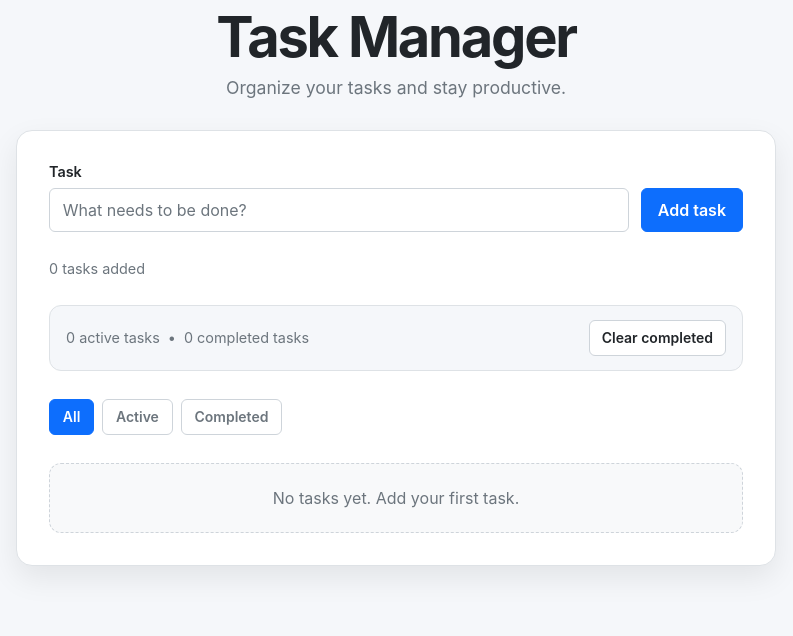
it: App › allows a user to edit an existing task
Type "Buy groceries" into the field labelled "Task". click: coordinates (339, 210)
box: [49,188,629,232]
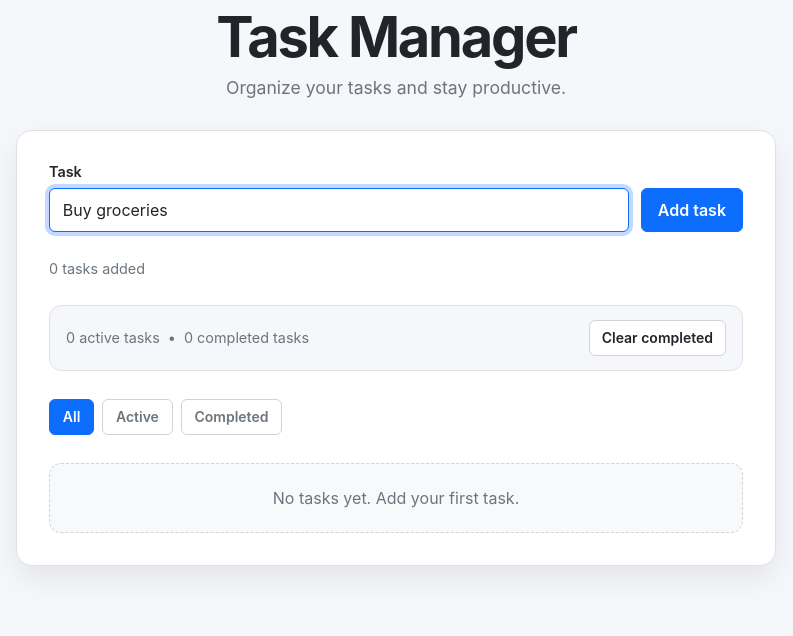
Click the button "Add task". click: coordinates (692, 210)
box: [641,188,743,232]
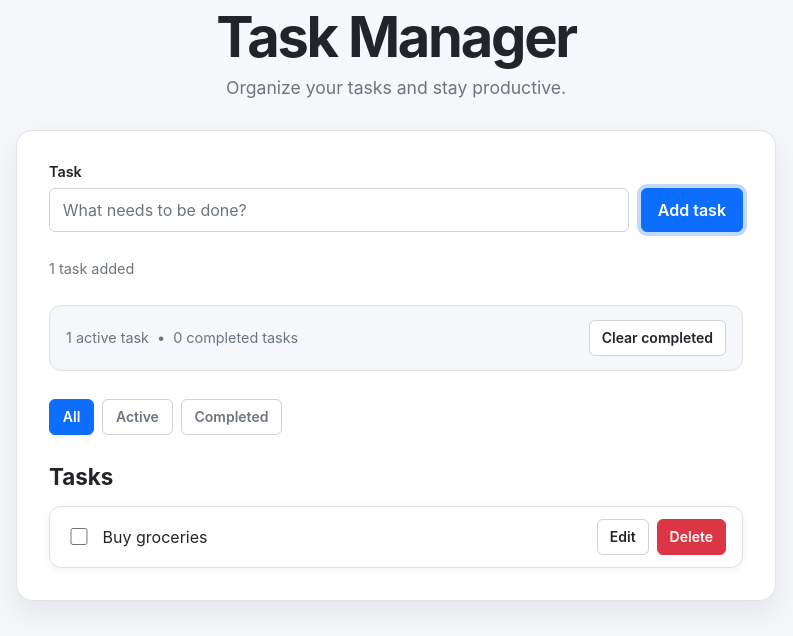
Click the button with aria-label "edit buy groceries". click: coordinates (623, 537)
box: [597,519,649,555]
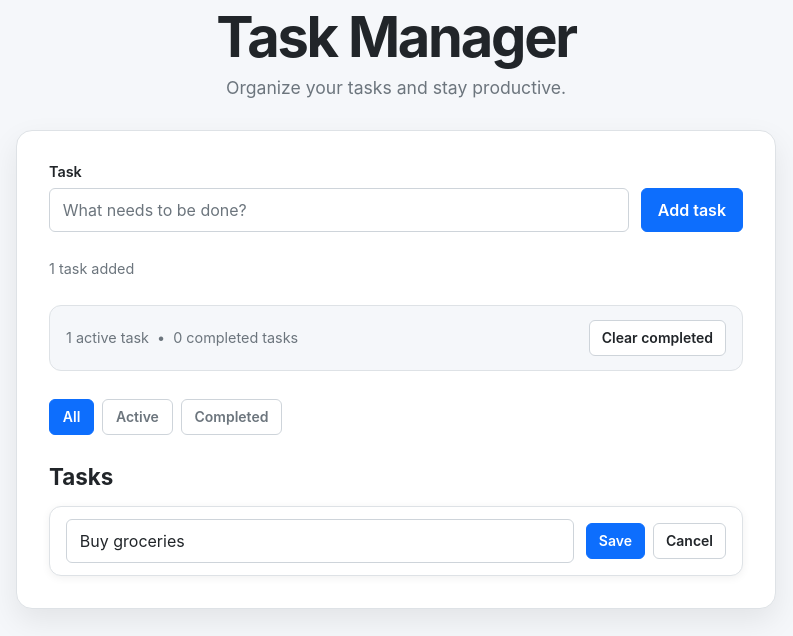
Replace the text in the field named "edit buy groceries" with "Buy vegetables". click: coordinates (320, 541)
box: [66,519,574,563]
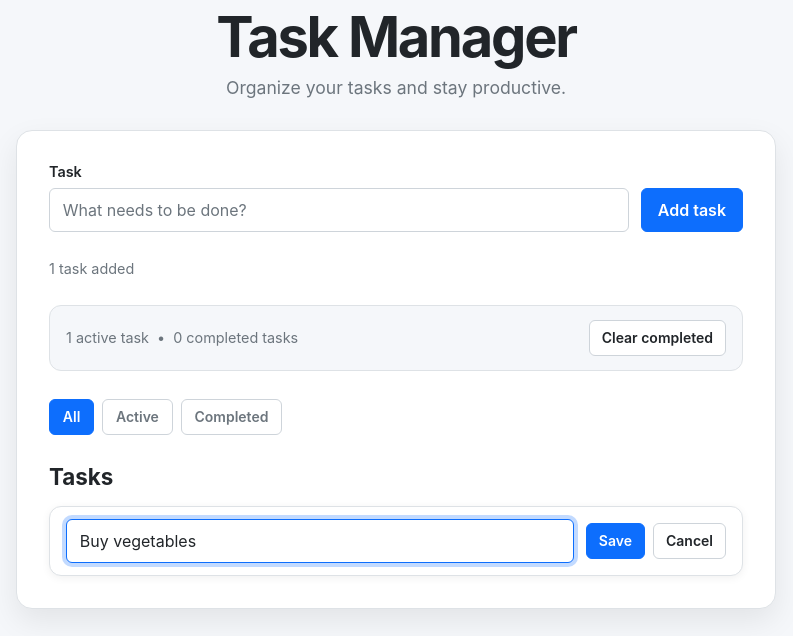
Click the button "Save". click: coordinates (615, 541)
box: [586,523,645,559]
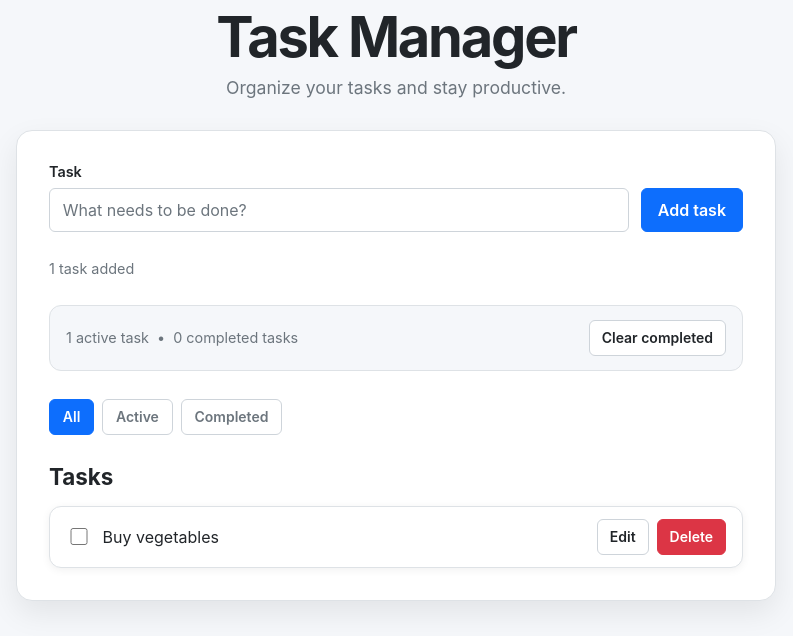
Check: the text "Buy groceries" is not shown
Check: the text "Buy vegetables" is shown, box [103,527,219,547]
